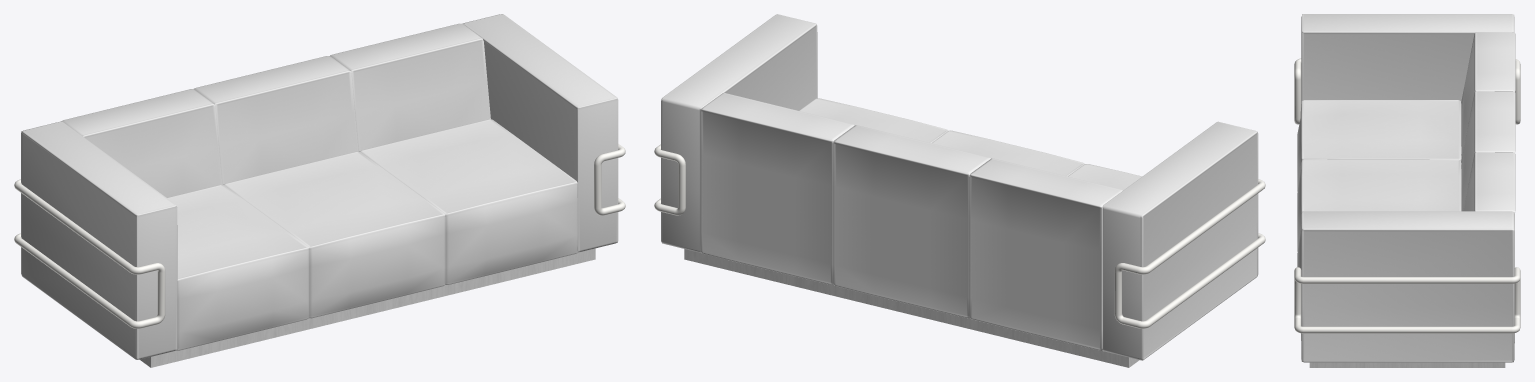
The model's file is Sofa08.FBX.
3 views of the same model, side by side, from view 1: azimuth 30°, elevation 25°; view 2: azimuth 150°, elevation 25°; view 3: azimuth 270°, elevation 25° (orthographic). The views are drawn at different scales.
Parts seen in each view (by area): view 1: Sofa08; view 2: Sofa08; view 3: Sofa08.
Part boxes in pixels (x1=…): Sofa08: x1=14, y1=14, x2=625, y2=367; Sofa08: x1=654, y1=14, x2=1265, y2=367; Sofa08: x1=1294, y1=14, x2=1520, y2=367.
Size of the model in its own units: 361 by 112 by 155.
